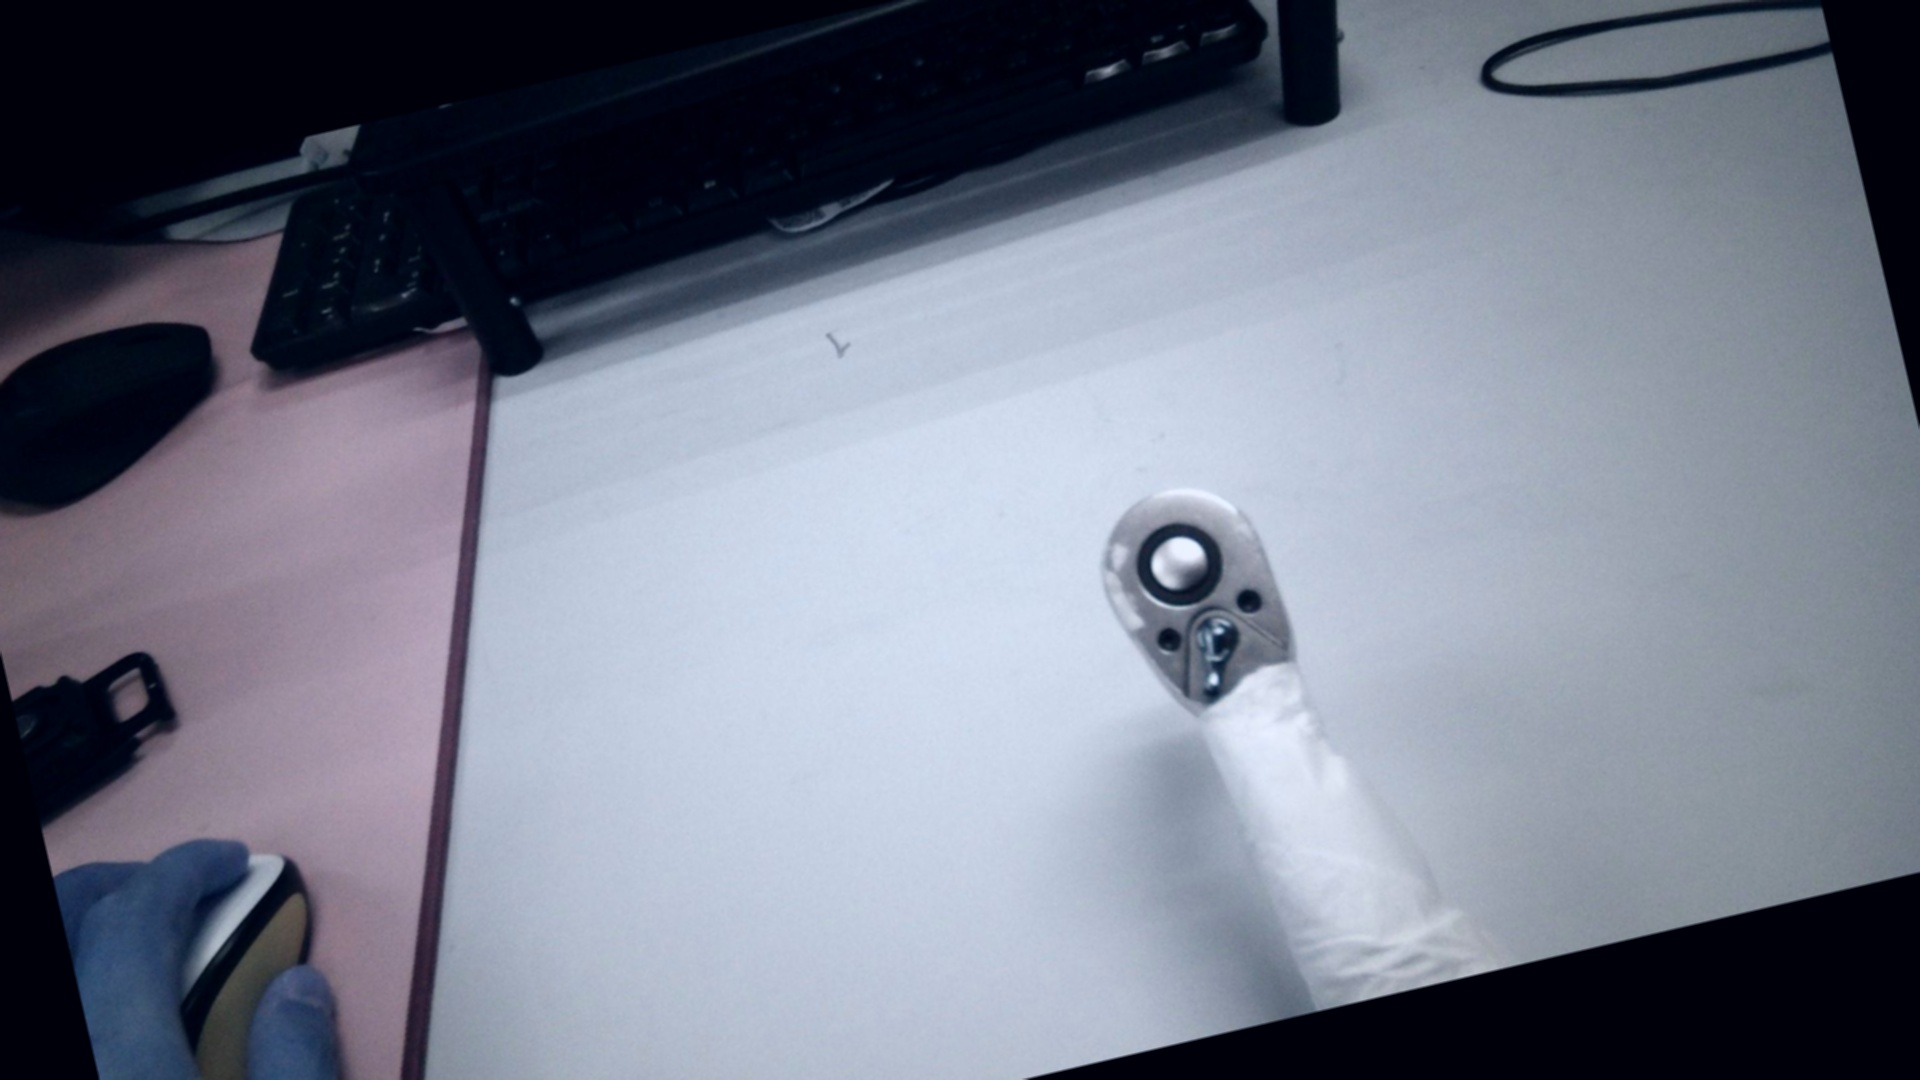wrench: (1125, 512, 1229, 616)
